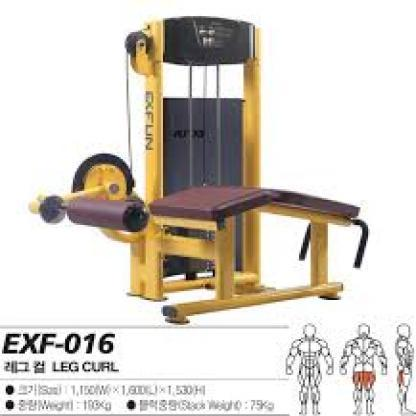reg curl machine: (28, 14, 373, 325)
